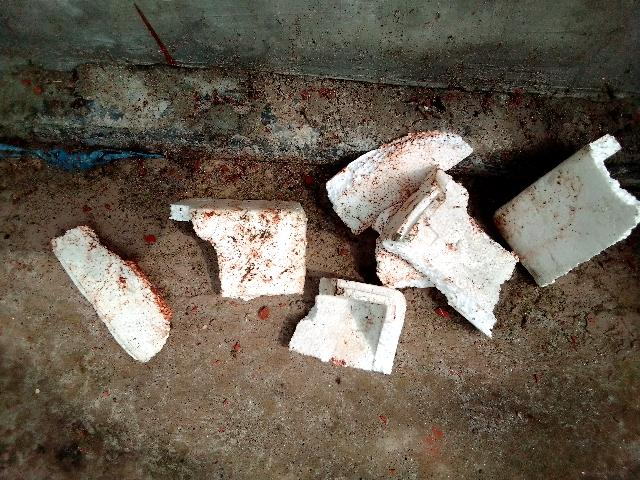cocksheet: (322, 55, 640, 350), (46, 212, 196, 370), (304, 269, 423, 386), (189, 185, 313, 292)
